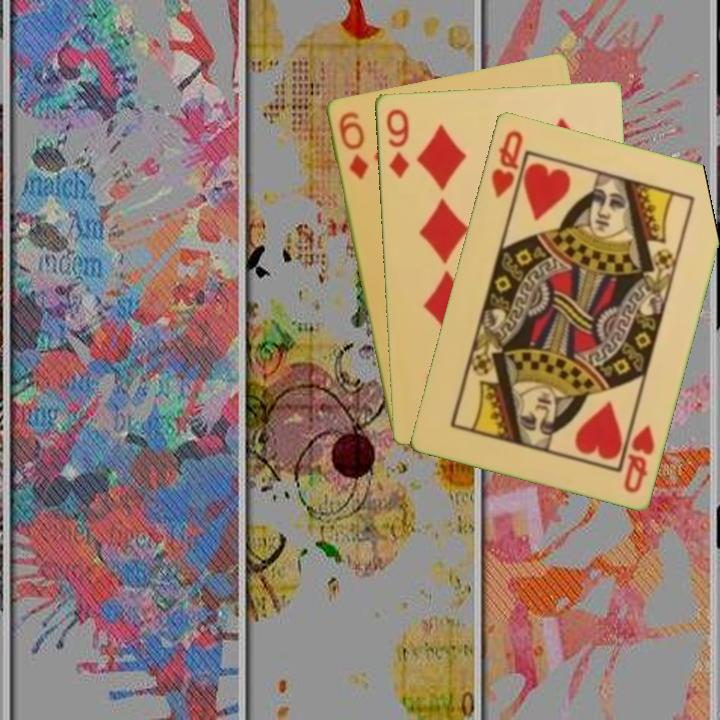6d: (335, 108, 371, 182)
9d: (382, 104, 411, 181)
Qh: (487, 126, 526, 201), (620, 420, 657, 496)
